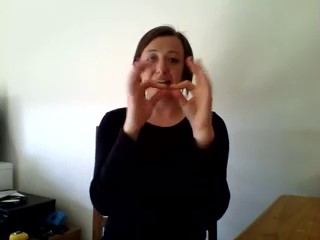B: (123, 56, 216, 130)
